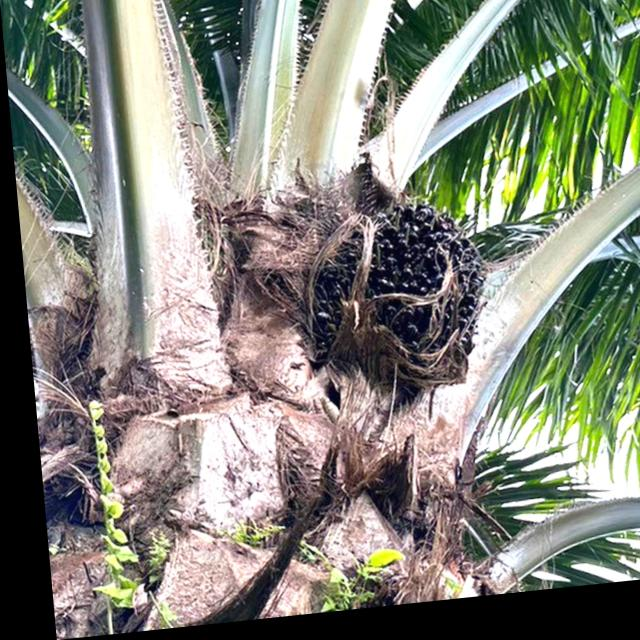unripe: (257, 193, 496, 425)
